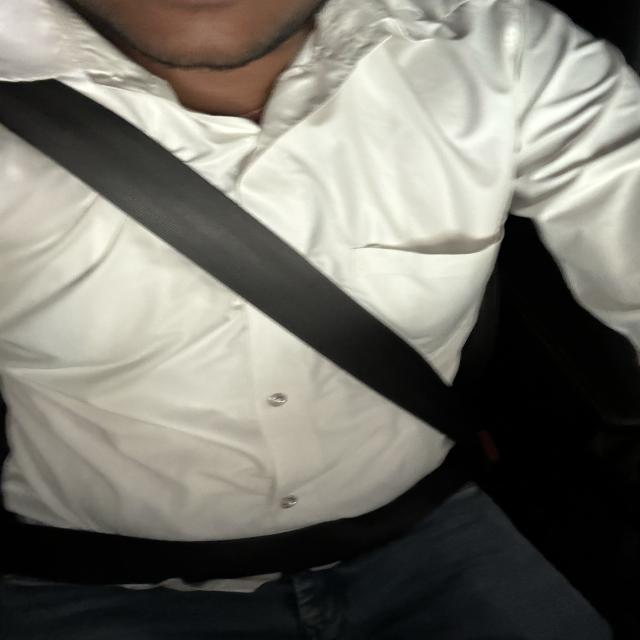seatbelt: (0, 50, 531, 598)
